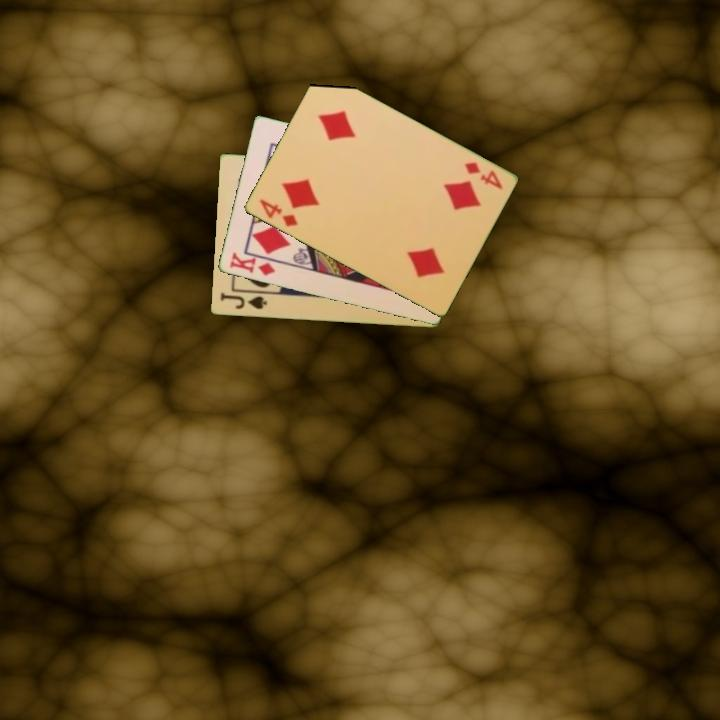4d: (461, 158, 505, 193), (256, 196, 300, 230)
Js: (217, 289, 270, 312)
Kd: (226, 249, 282, 279)
